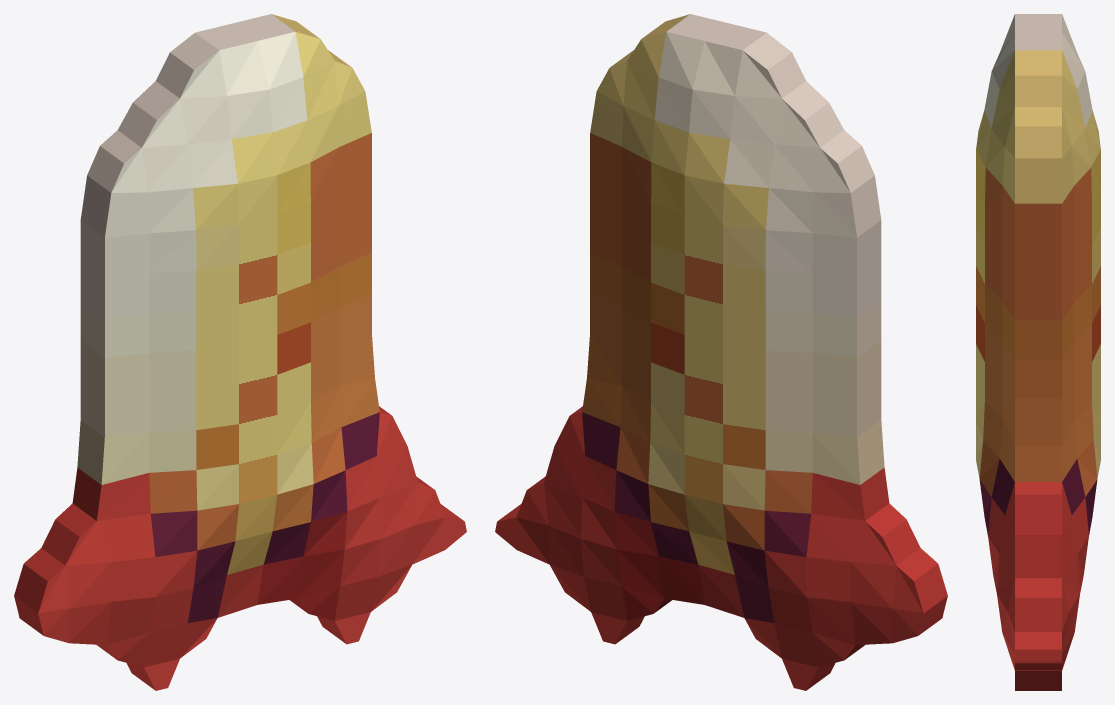
The model's file is pixel_award_plaque.l.78d30677.glb.
3 views of the same model, side by side, from view 1: azimuth 30°, elevation 25°; view 2: azimuth 150°, elevation 25°; view 3: azimuth 270°, elevation 25° (orthographic). The views are drawn at different scales.
Parts seen in each view (by area): view 1: award_plaque; view 2: award_plaque; view 3: award_plaque.
Boxes of the visible parts, box(x1,y1,x2,y2) form: award_plaque: box(14, 14, 466, 690); award_plaque: box(495, 14, 947, 690); award_plaque: box(976, 14, 1100, 690).
Size of the model in its own units: 0.2512 by 0.35 by 0.0648.
1 material, 1 textured.
